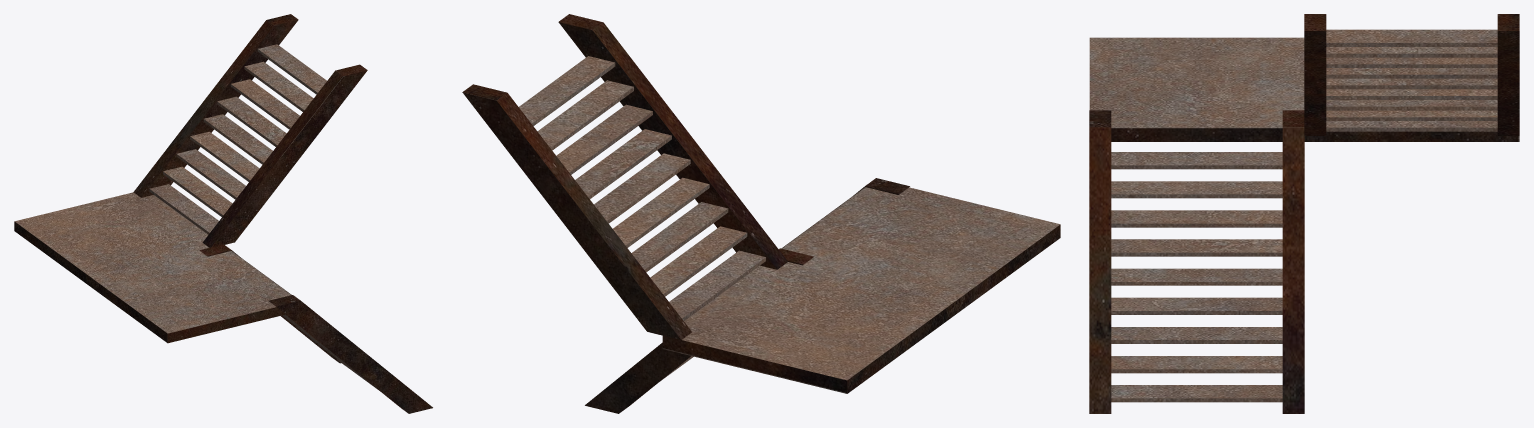
The model's file is metal_stairs_u_shape_textured.glb.
3 renders of one model, left to right at view 1: azimuth 30°, elevation 25°; view 2: azimuth 150°, elevation 25°; view 3: azimuth 270°, elevation 25°, orthographic. The views are drawn at different scales.
Parts seen in each view (by area): view 1: Cube.001; view 2: Cube.001; view 3: Cube.001.
Part boxes in pixels (<box>): Cube.001: <box>14,14,432,413</box>; Cube.001: <box>462,14,1060,413</box>; Cube.001: <box>1089,14,1519,413</box>.
Bounding box in the file's own units: 2.08 × 2.01 × 2.
Materials: 1 (1 with a texture image).
